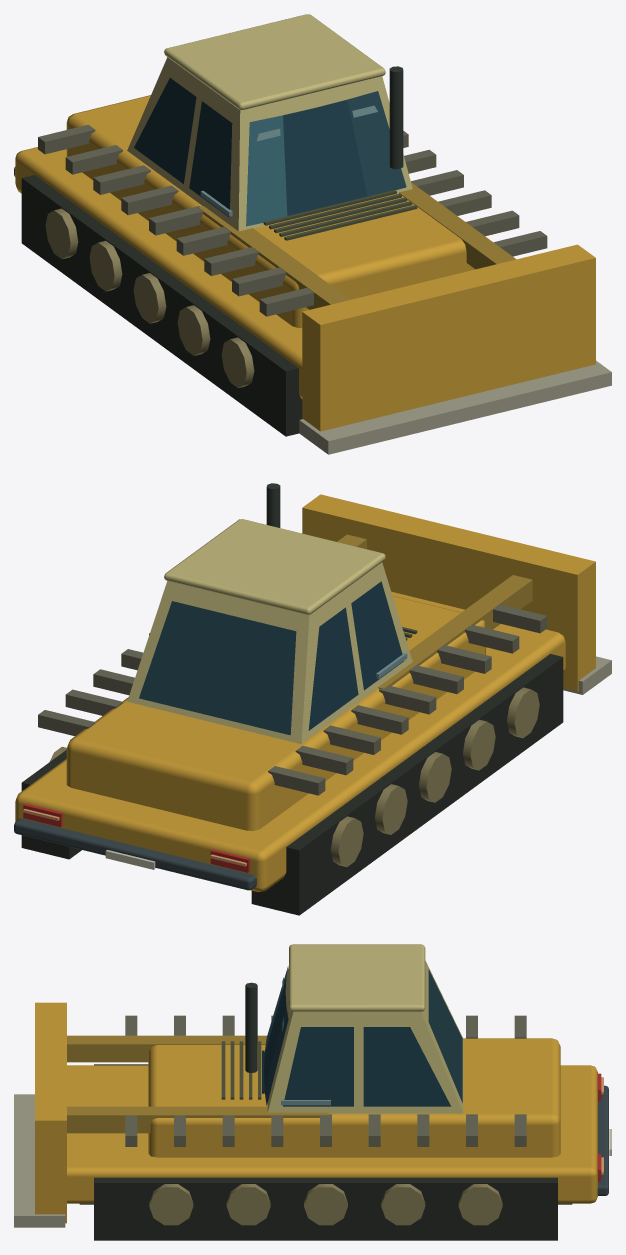
File: bulldozer.glb
3 views of the same model, one above another, from view 1: azimuth 30°, elevation 25°; view 2: azimuth 150°, elevation 25°; view 3: azimuth 270°, elevation 25° (orthographic). The views are drawn at different scales.
Visible parts, largest first — view 1: bulldozer_body; view 2: bulldozer_body; view 3: bulldozer_body.
Part boxes in pixels (x1,y1,x2,y2): bulldozer_body: (14,14,611,454); bulldozer_body: (14,483,611,915); bulldozer_body: (14,944,611,1240).
Bounding box in the file's own units: 2.96 × 2.44 × 5.95.
